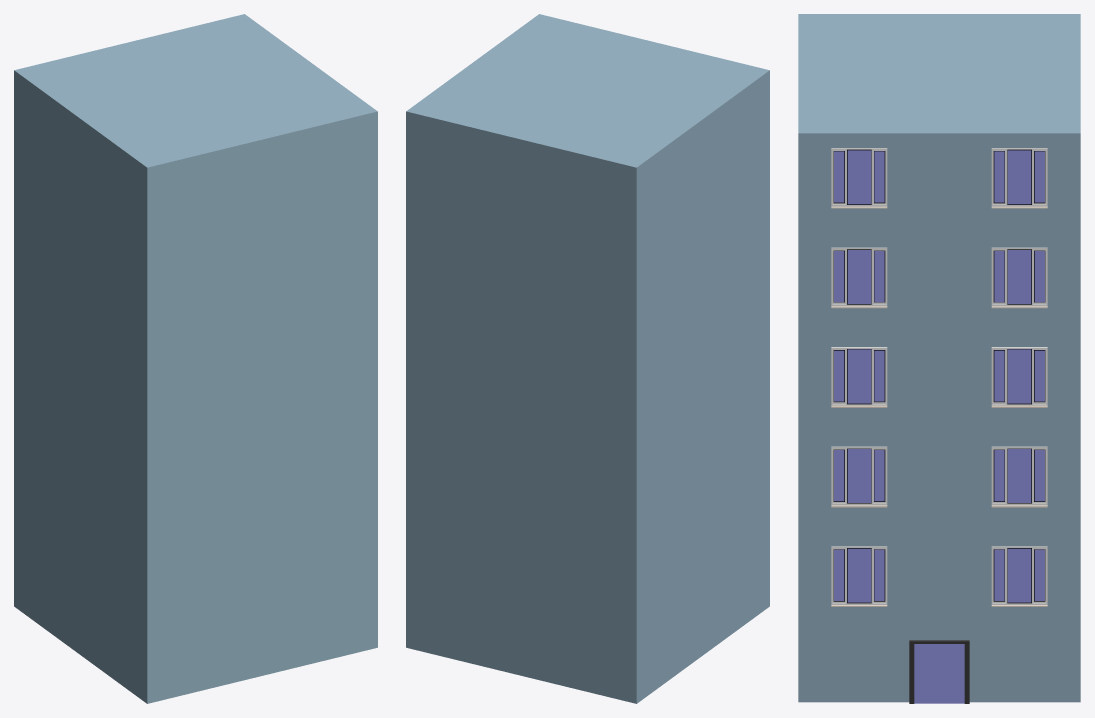
The model's file is Apartment.fbx.
The picture shows the model from 3 angles, left to right: view 1: azimuth 30°, elevation 25°; view 2: azimuth 150°, elevation 25°; view 3: azimuth 270°, elevation 25°; orthographic projection. The views are drawn at different scales.
Parts seen in each view (by area): view 1: Body; view 2: Body; view 3: Body, Window, Window.002, Window.007, Window.009, Window.001, Window.003, Window.005, Window.004, Window.006, Window.008, Door (+1 smaller).
Boxes of the visible parts, left/top/right/bottom form: Body: left=14, top=14, right=377, bottom=703; Body: left=406, top=14, right=769, bottom=703; Body: left=798, top=14, right=1080, bottom=702; Window: left=831, top=446, right=887, bottom=507; Window.002: left=991, top=446, right=1047, bottom=507; Window.007: left=991, top=247, right=1047, bottom=308; Window.009: left=831, top=247, right=887, bottom=308; Window.001: left=991, top=546, right=1047, bottom=606; Window.003: left=831, top=546, right=887, bottom=606; Window.005: left=831, top=347, right=887, bottom=407; Window.004: left=991, top=347, right=1047, bottom=407; Window.006: left=831, top=148, right=887, bottom=208; Window.008: left=991, top=148, right=1047, bottom=208; Door: left=914, top=644, right=964, bottom=703.
Bounding box in the file's own units: 185 × 400 × 180.
